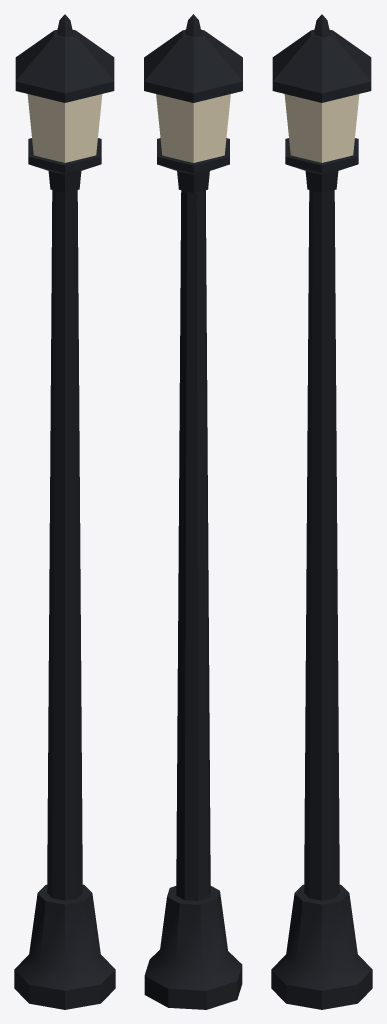
Rendered from lamp_post.glb.
3 renders of one model, left to right at view 1: azimuth 90°, elevation 25°; view 2: azimuth 150°, elevation 25°; view 3: azimuth 270°, elevation 25°, orthographic.
Visible parts, largest first — view 1: Post, Plinth, Roof, Lamp, Holder, Finial; view 2: Post, Plinth, Roof, Lamp, Holder, Finial; view 3: Post, Plinth, Roof, Lamp, Holder, Finial.
Part boxes in pixels (x1=…): Post: x1=47, y1=190, x2=82, y2=900; Plinth: x1=14, y1=884, x2=115, y2=1009; Roof: x1=15, y1=30, x2=114, y2=102; Lamp: x1=27, y1=94, x2=102, y2=162; Holder: x1=28, y1=138, x2=101, y2=192; Finial: x1=57, y1=14, x2=72, y2=36; Post: x1=176, y1=190, x2=210, y2=900; Plinth: x1=144, y1=886, x2=242, y2=1009; Roof: x1=144, y1=29, x2=242, y2=102; Lamp: x1=156, y1=94, x2=230, y2=162; Holder: x1=157, y1=138, x2=229, y2=193; Finial: x1=185, y1=14, x2=201, y2=36; Post: x1=304, y1=190, x2=339, y2=900; Plinth: x1=271, y1=884, x2=372, y2=1009; Roof: x1=272, y1=30, x2=371, y2=102; Lamp: x1=284, y1=94, x2=359, y2=162; Holder: x1=285, y1=138, x2=358, y2=192; Finial: x1=314, y1=14, x2=329, y2=36.
Bounding box in the file's own units: 0.54 × 5.1 × 0.48.
